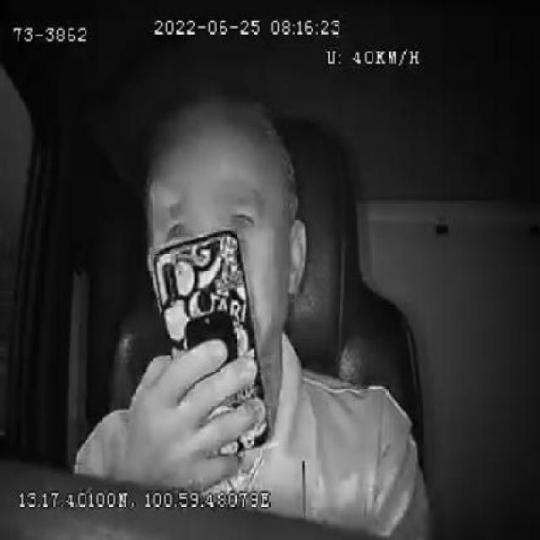phone: (154, 230, 270, 456)
